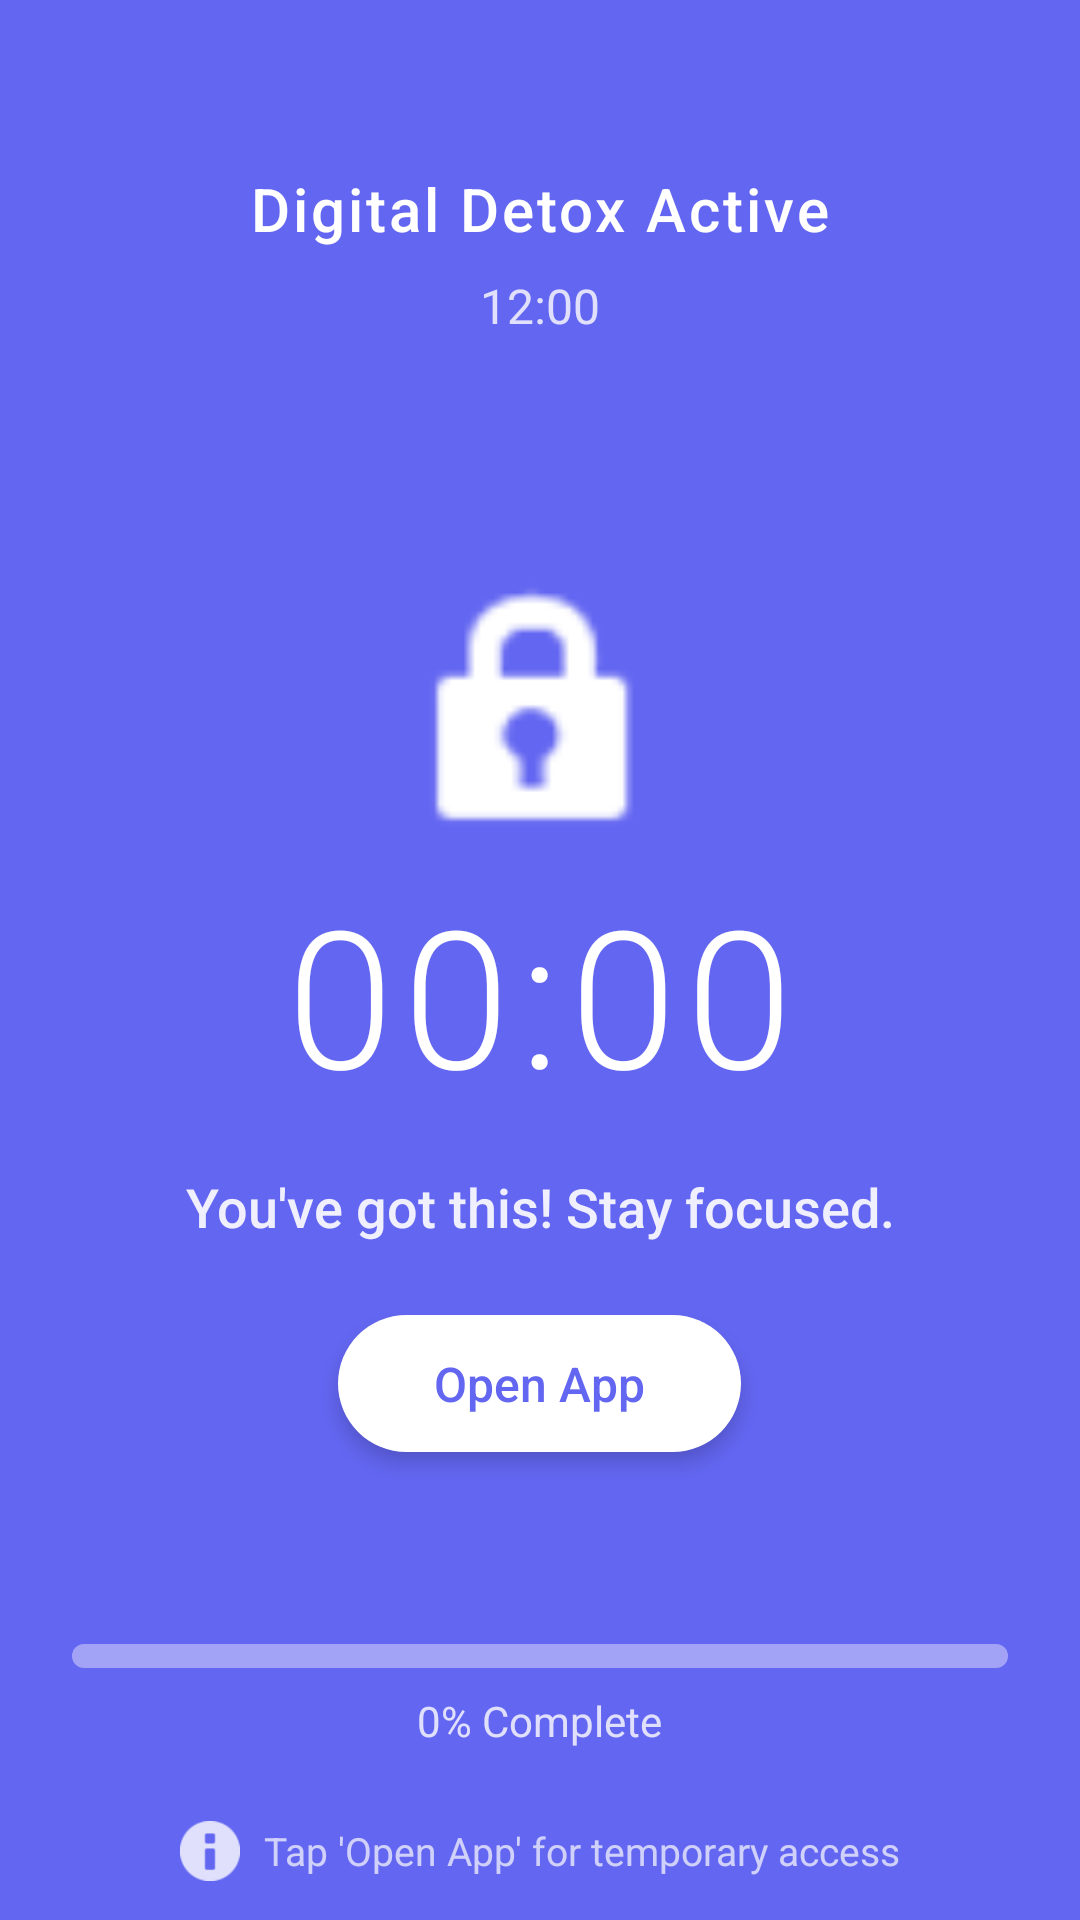

Icons on this 1080x1920 Android screen, each with its box as (x1, y1, x2, y2):
info: (180, 1821, 240, 1881)
lock idle: (435, 593, 631, 821)
